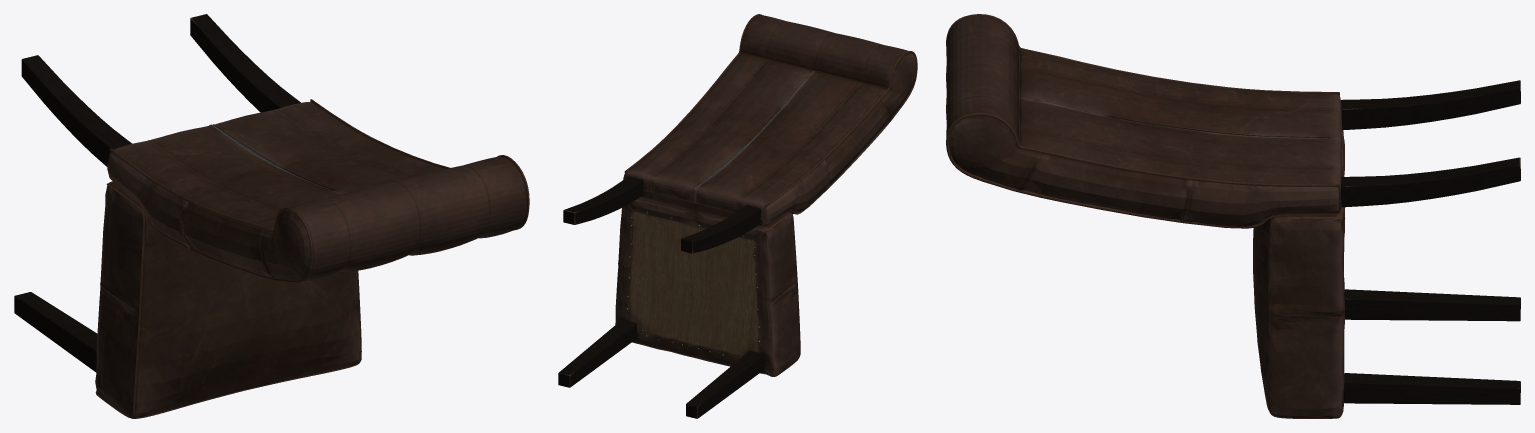
The model's file is dining_chair.obj.
The picture shows the model from 3 angles, left to right: view 1: azimuth 30°, elevation 25°; view 2: azimuth 150°, elevation 25°; view 3: azimuth 270°, elevation 25°; orthographic projection. The views are drawn at different scales.
Visible parts, largest first — view 1: Cube.054; view 2: Cube.054; view 3: Cube.054.
Part boxes in pixels (box(x1,y1,x2,y2)): Cube.054: box(14, 14, 529, 418); Cube.054: box(558, 14, 917, 418); Cube.054: box(946, 14, 1520, 418).
Bounding box in the file's own units: 0.4365 × 0.5803 × 0.98.
Materials: 1 (1 with a texture image).
